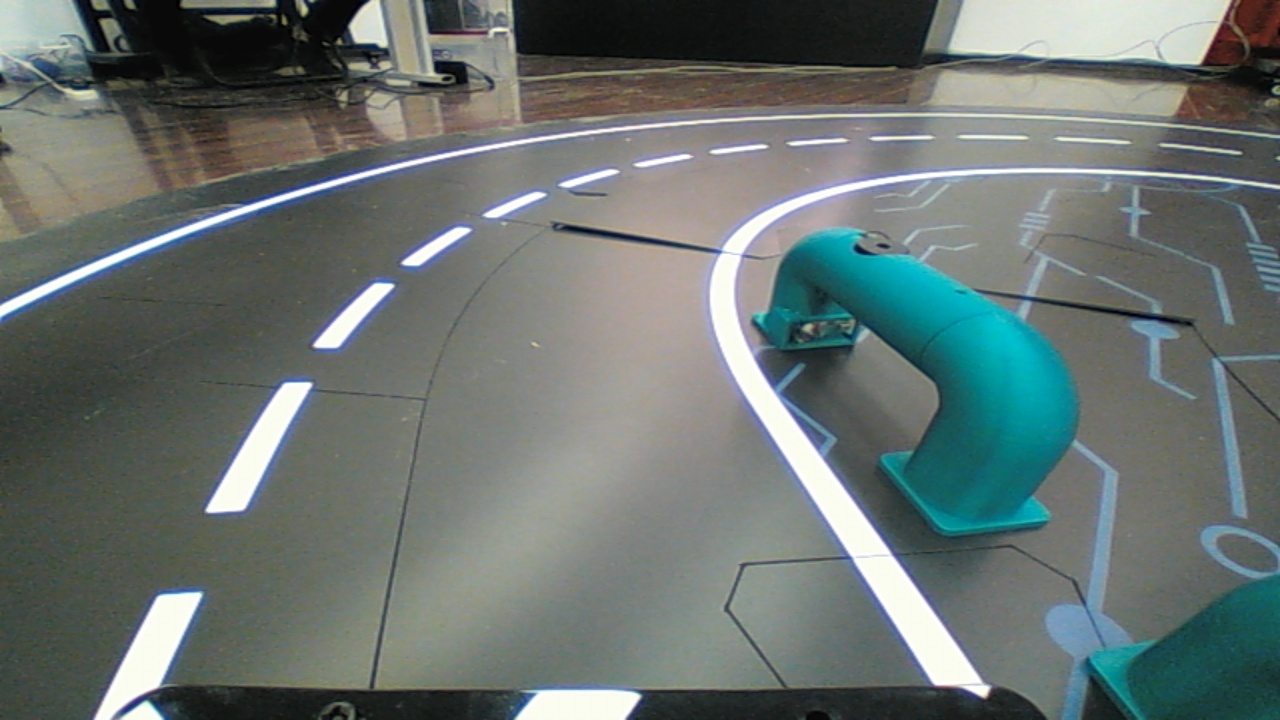Pedestrian crossing: (739, 187, 1098, 563)
